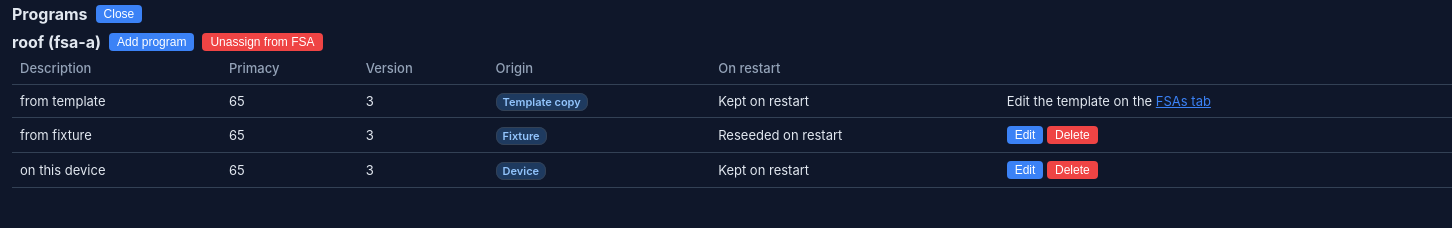
Test: DevicePrograms delete › shows any other delete refusal with its status and message
The width and height of the screenshot is (1452, 228).
Click the button with test id "program-delete-derp-d" at (1072,170), box [1047,161,1098,179]
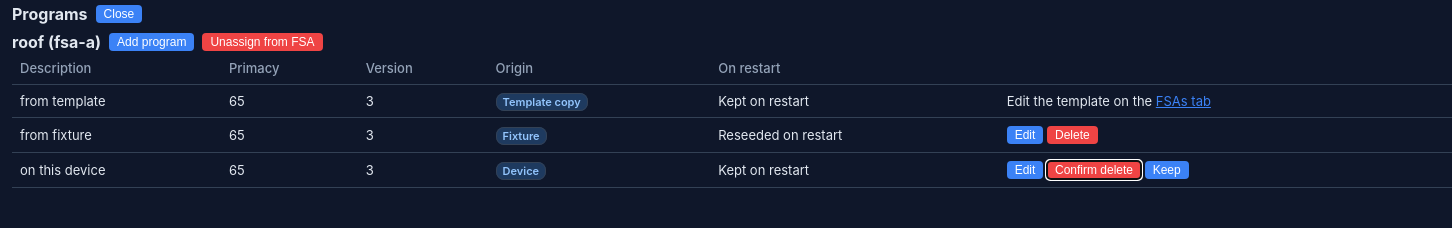
Click the button with test id "program-delete-confirm-derp-d" at (1094,170), box [1047,161,1141,179]
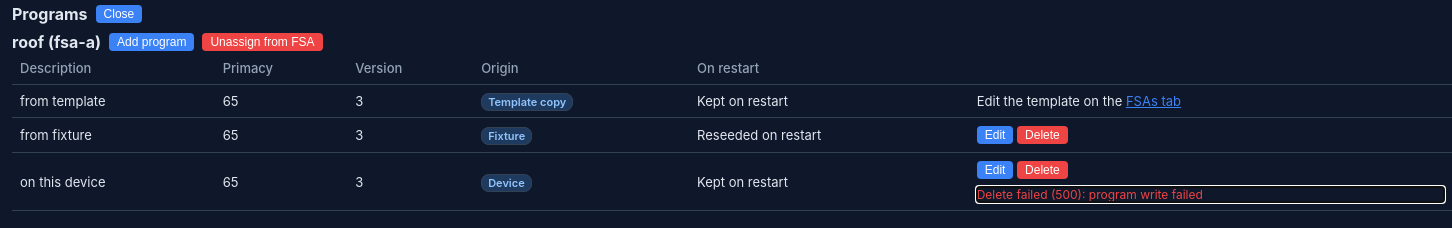
Expected: the message with test id "program-delete-error-derp-d" reads "Delete failed (500): program write failed", [977,187,1203,202]
